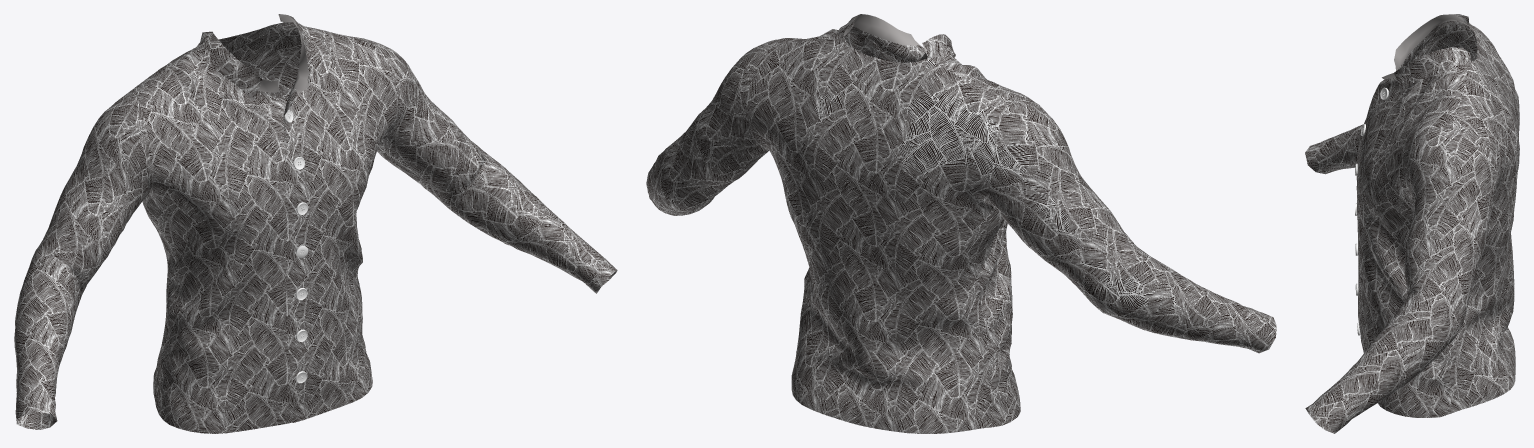
The model's file is Baju_Panjang.fbx.
3 renders of one model, left to right at view 1: azimuth 30°, elevation 25°; view 2: azimuth 150°, elevation 25°; view 3: azimuth 270°, elevation 25°, orthographic. The views are drawn at different scales.
Parts seen in each view (by area): view 1: Baju_Panjang.006; view 2: Baju_Panjang.006; view 3: Baju_Panjang.006.
Boxes of the visible parts, <box> form: Baju_Panjang.006: <box>14,14,617,433</box>; Baju_Panjang.006: <box>646,14,1276,433</box>; Baju_Panjang.006: <box>1305,14,1519,433</box>.
Size of the model in its own units: 1060 by 619 by 349.
4 materials, 2 textured.
